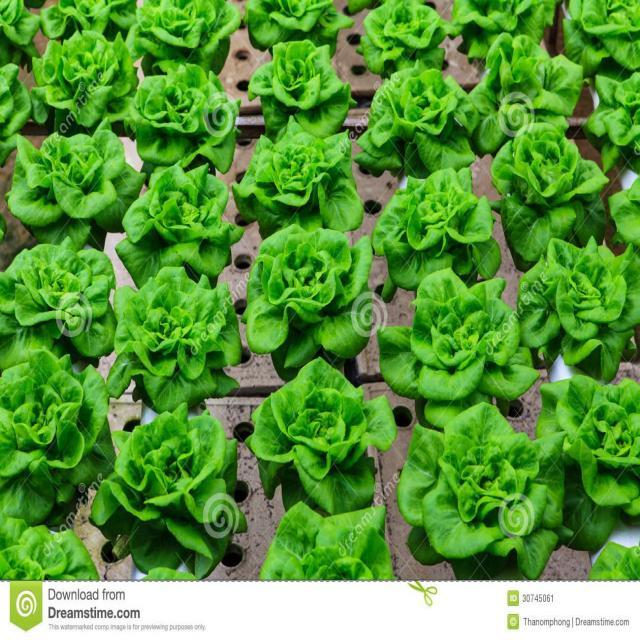Lettuce: (405, 402, 560, 580), (93, 405, 242, 578), (378, 268, 542, 425), (248, 360, 398, 510), (0, 352, 115, 525), (110, 267, 245, 410), (245, 227, 377, 373), (515, 235, 640, 382), (535, 372, 640, 543), (485, 128, 608, 265), (373, 168, 502, 294), (232, 118, 362, 237), (0, 235, 118, 360), (10, 133, 145, 240), (357, 58, 475, 178), (123, 167, 242, 283), (466, 37, 582, 148), (128, 65, 238, 175), (33, 30, 145, 133), (257, 502, 398, 582), (246, 40, 352, 133), (125, 0, 246, 73), (355, 0, 460, 68), (456, 0, 561, 58), (242, 0, 352, 55), (565, 0, 640, 75), (0, 525, 93, 585), (588, 71, 640, 171), (38, 0, 135, 41), (0, 0, 48, 70)
